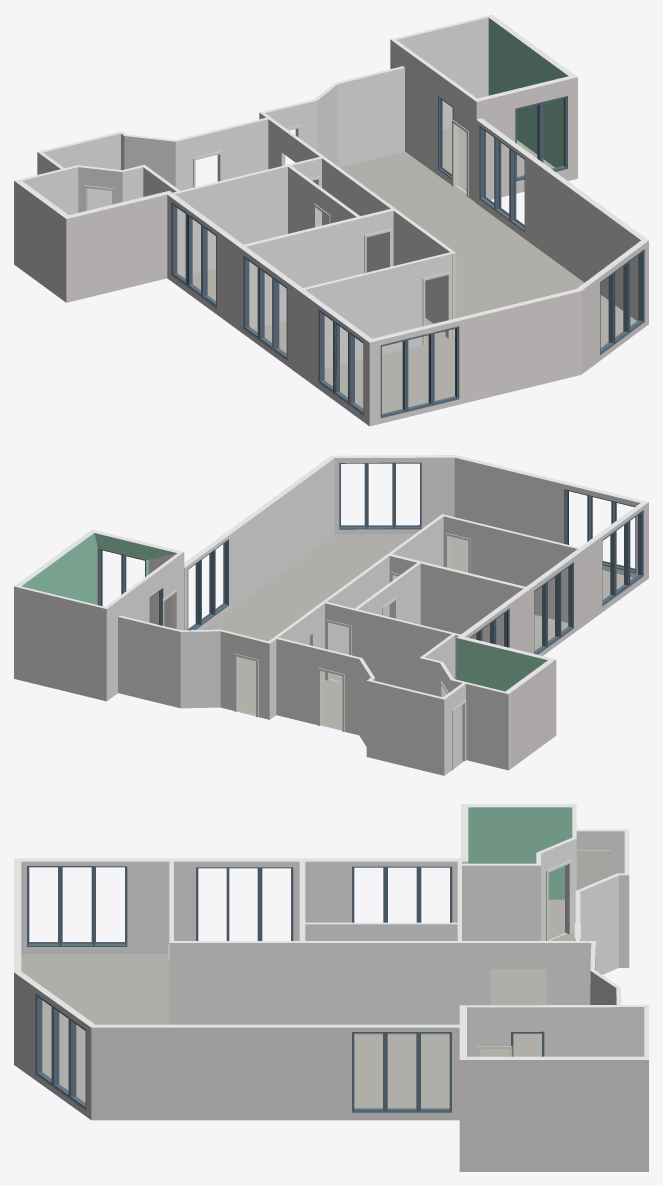
File: office-interior.glb
The picture shows the model from 3 angles, top to bottom: view 1: azimuth 30°, elevation 25°; view 2: azimuth 150°, elevation 25°; view 3: azimuth 270°, elevation 25°; orthographic projection. The views are drawn at different scales.
Visible parts, largest first — view 1: AKL_Office, Model, Fixed___10, Fixed___20, Fixed___11, Fixed___01, Fixed___15, Fixed___03, Fixed___06, Fixed___12, Fixed___02, Fixed___13 (+8 smaller); view 2: AKL_Office, Model, Fixed___09, Single_F05, Fixed___06, Fixed___07, Fixed___19, Fixed___13, Fixed___14, Fixed___08, Fixed___12, Fixed___11 (+3 smaller); view 3: AKL_Office, Model, Single_F05, Fixed___20, Fixed___19, Fixed___18, Fixed___06, Fixed___07, Fixed___08, Fixed___13, Fixed___14, Single_F04 (+1 smaller).
Part boxes in pixels (x1=…): AKL_Office: x1=14, y1=14, x2=648, y2=426; Model: x1=182, y1=127, x2=636, y2=413; Fixed___10: x1=258, y1=267, x2=279, y2=350; Fixed___20: x1=629, y1=249, x2=644, y2=332; Fixed___11: x1=243, y1=255, x2=258, y2=339; Fixed___01: x1=171, y1=202, x2=186, y2=285; Fixed___15: x1=406, y1=332, x2=432, y2=411; Fixed___03: x1=201, y1=224, x2=216, y2=307; Fixed___06: x1=479, y1=126, x2=494, y2=209; Fixed___12: x1=318, y1=309, x2=333, y2=393; Fixed___02: x1=186, y1=213, x2=201, y2=296; Fixed___13: x1=348, y1=332, x2=363, y2=415; AKL_Office: x1=14, y1=455, x2=648, y2=775; Model: x1=170, y1=534, x2=633, y2=768; Fixed___09: x1=555, y1=562, x2=573, y2=637; Single_F05: x1=452, y1=700, x2=466, y2=770; Fixed___06: x1=187, y1=559, x2=201, y2=630; Fixed___07: x1=201, y1=549, x2=215, y2=625; Fixed___19: x1=366, y1=462, x2=394, y2=529; Fixed___13: x1=630, y1=510, x2=643, y2=585; Fixed___14: x1=616, y1=520, x2=629, y2=596; Fixed___08: x1=215, y1=539, x2=228, y2=615; Fixed___12: x1=602, y1=530, x2=615, y2=606; Fixed___11: x1=534, y1=581, x2=547, y2=654; AKL_Office: x1=14, y1=804, x2=648, y2=1171; Model: x1=21, y1=899, x2=574, y2=1108; Single_F05: x1=577, y1=850, x2=610, y2=889; Fixed___20: x1=69, y1=1018, x2=86, y2=1110; Fixed___19: x1=52, y1=1006, x2=69, y2=1098; Fixed___18: x1=35, y1=994, x2=52, y2=1085; Fixed___06: x1=418, y1=1032, x2=451, y2=1112; Fixed___07: x1=385, y1=1032, x2=418, y2=1112; Fixed___08: x1=352, y1=1032, x2=385, y2=1112; Fixed___13: x1=27, y1=866, x2=60, y2=946; Fixed___14: x1=60, y1=866, x2=93, y2=946; Single_F04: x1=546, y1=860, x2=571, y2=940.
Bounding box in the file's own units: 13.73 × 2.6 × 13.39.
